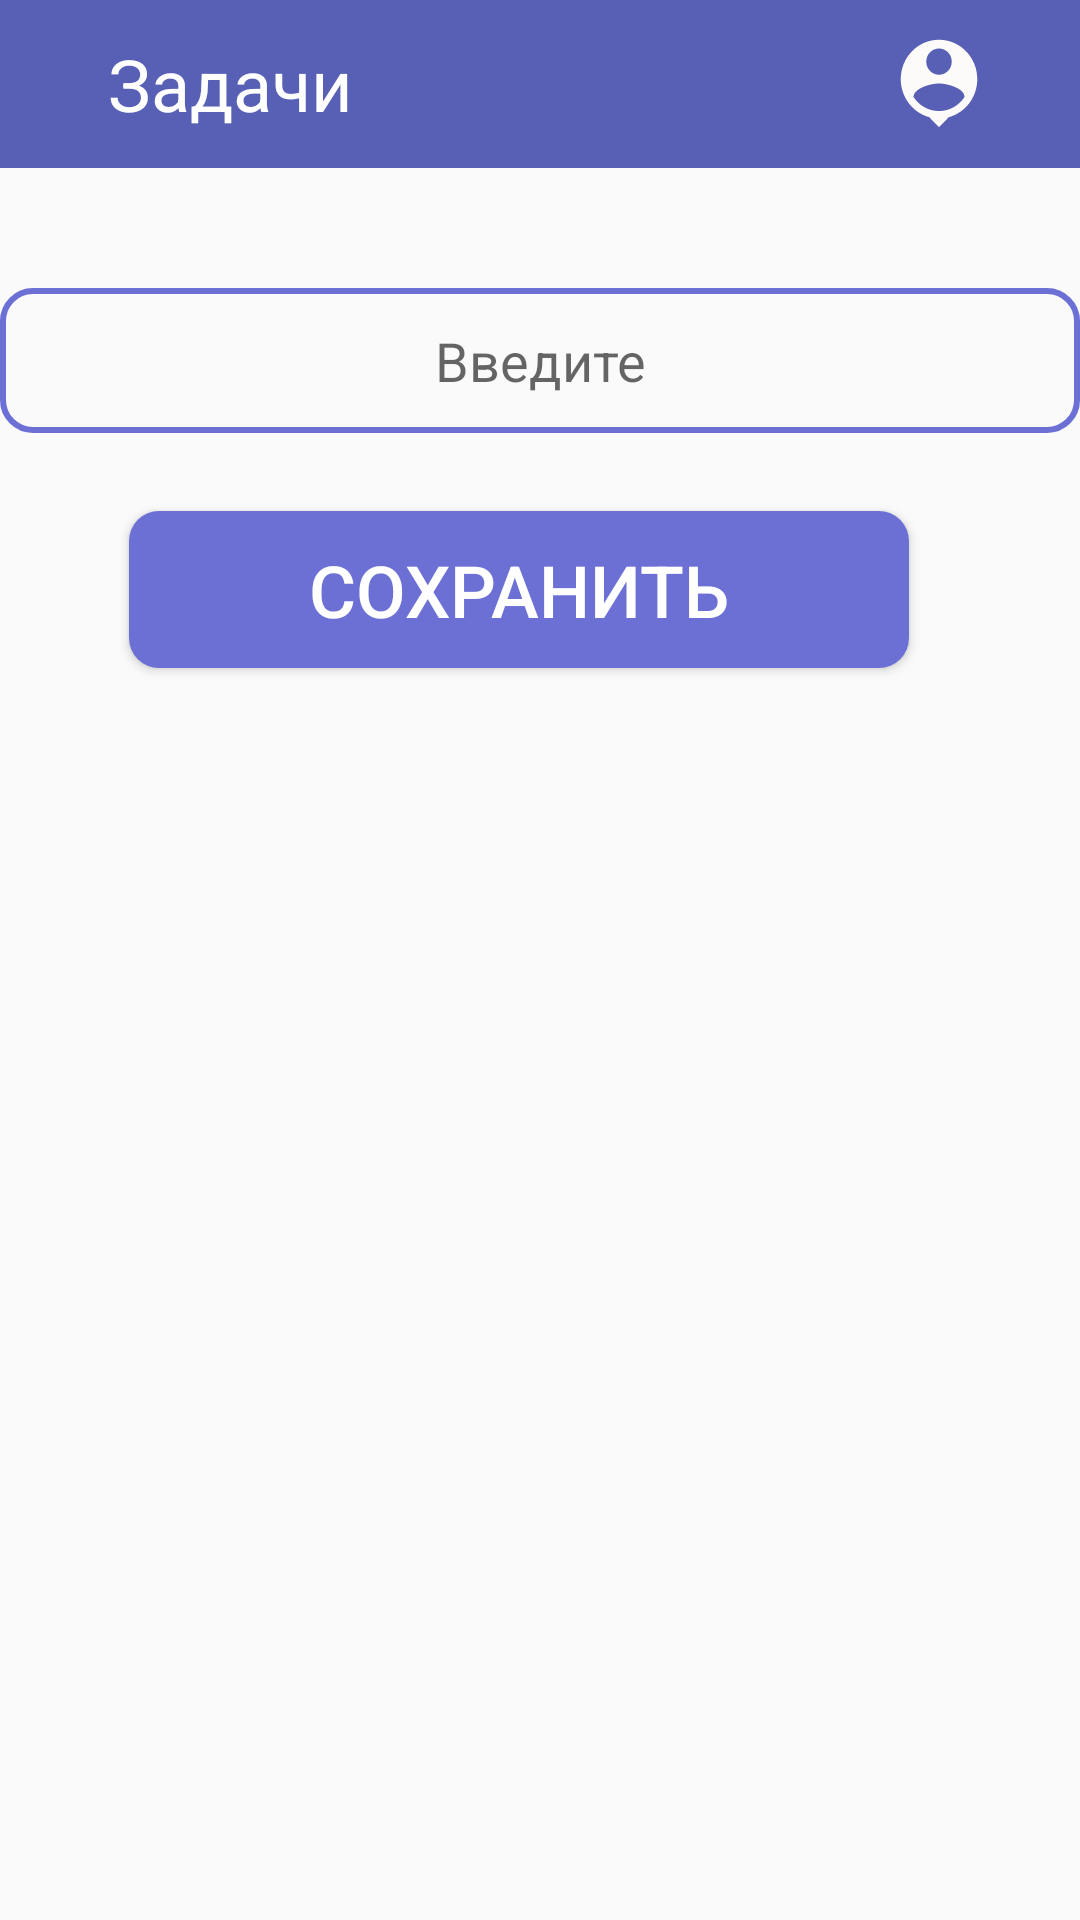

Where icons sit on this 1080px×1920px app screen, as (x1, y1, x2, y2):
person pin: (900, 39, 978, 127)
